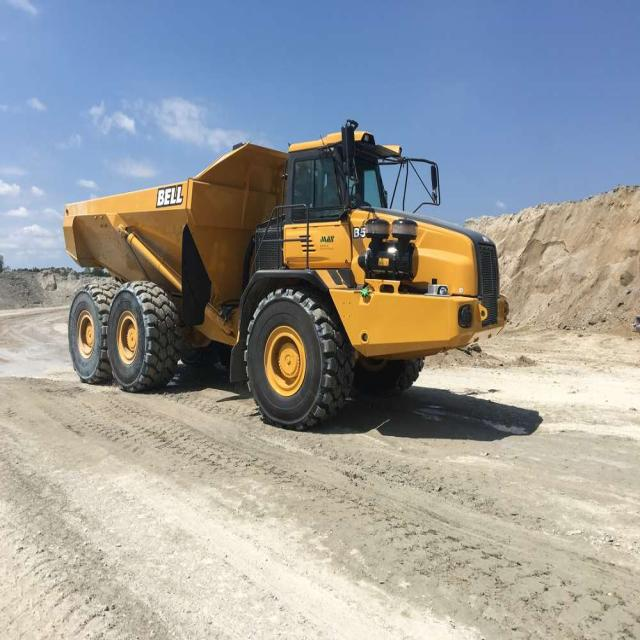dump_truck: (63, 104, 500, 435)
